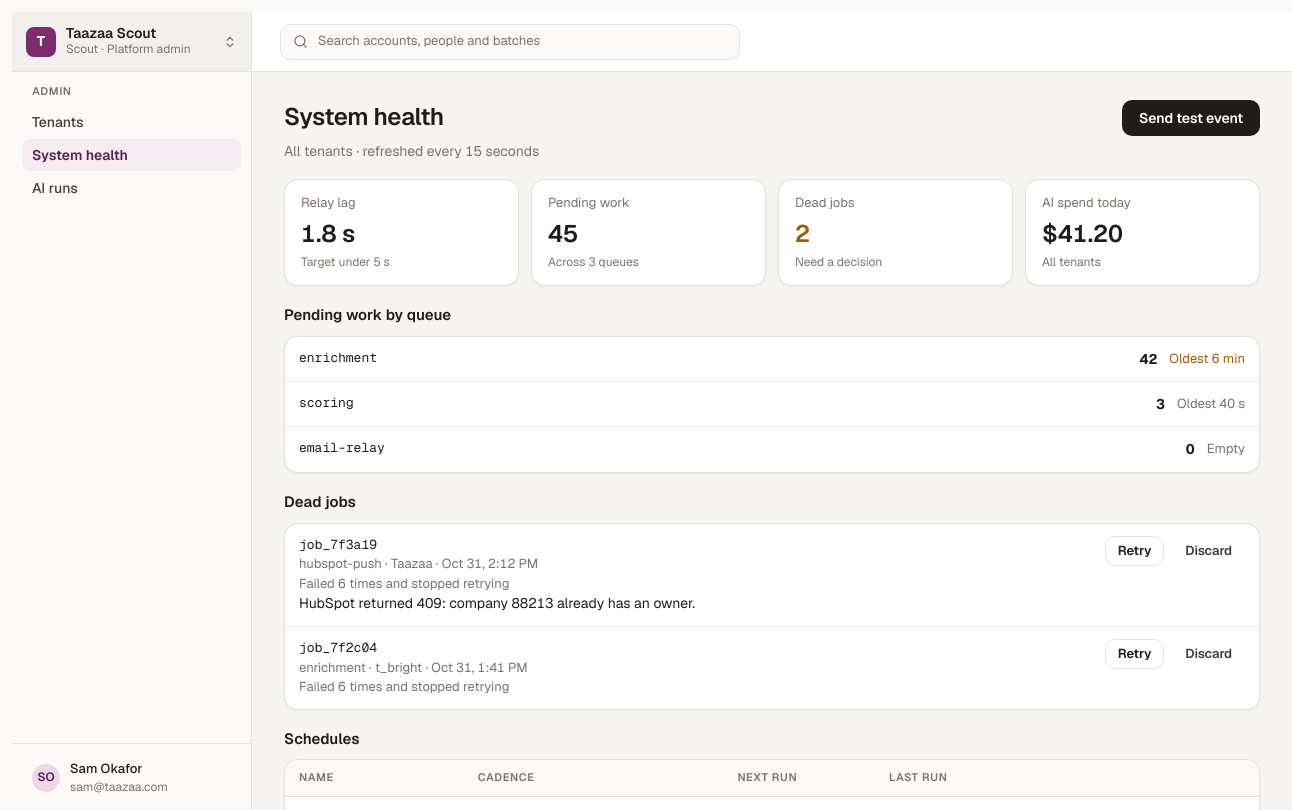
dead jobs › drops a retried job at once, with no updates bar
What coordinates should you click on to do the following:
click the button with aria-label "Retry job_7f3a19"
I would click on:
 (1135, 550)
Its box is [1105,536,1164,566].
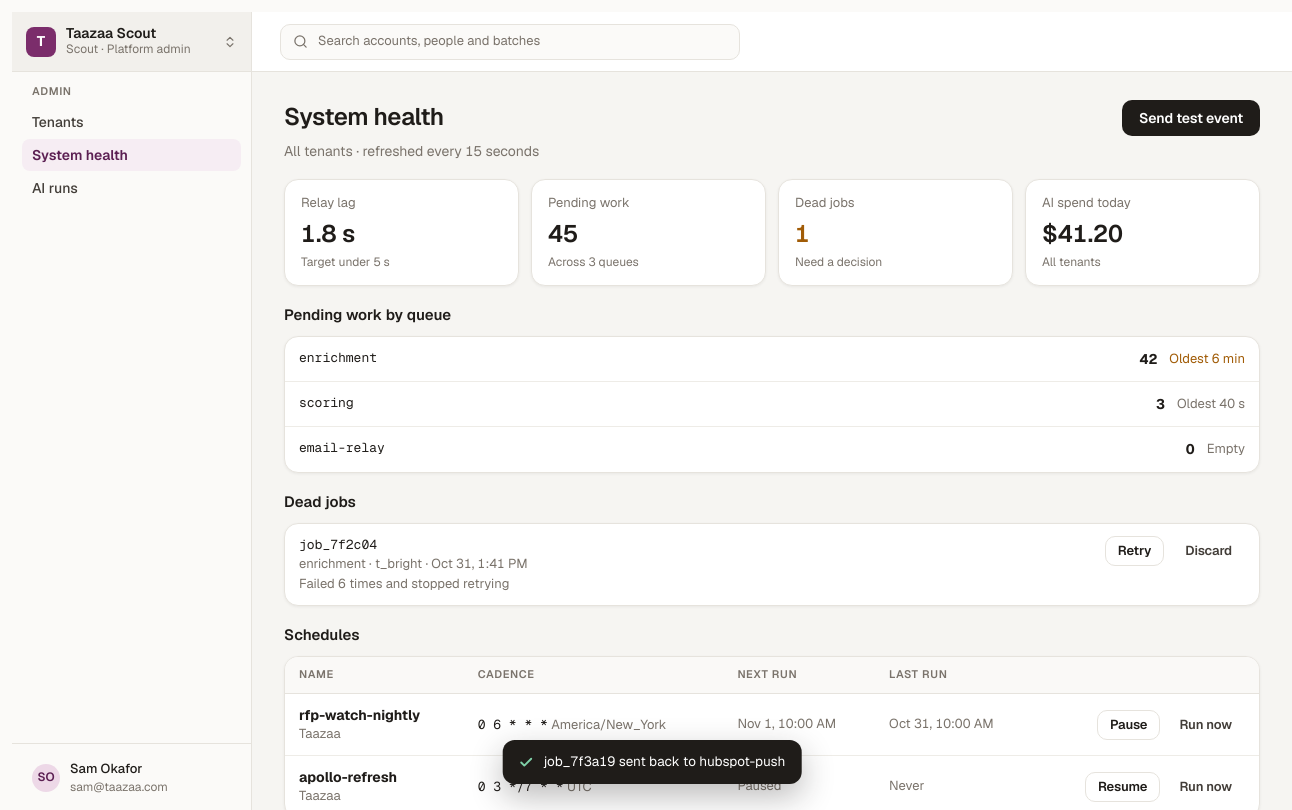
Check: the text "job_7f3a19 sent back to hubspot-push" is shown, box [544,752,785,772]
